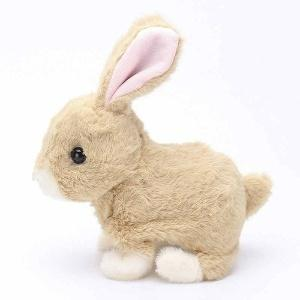rabbit: (31, 29, 274, 285)
